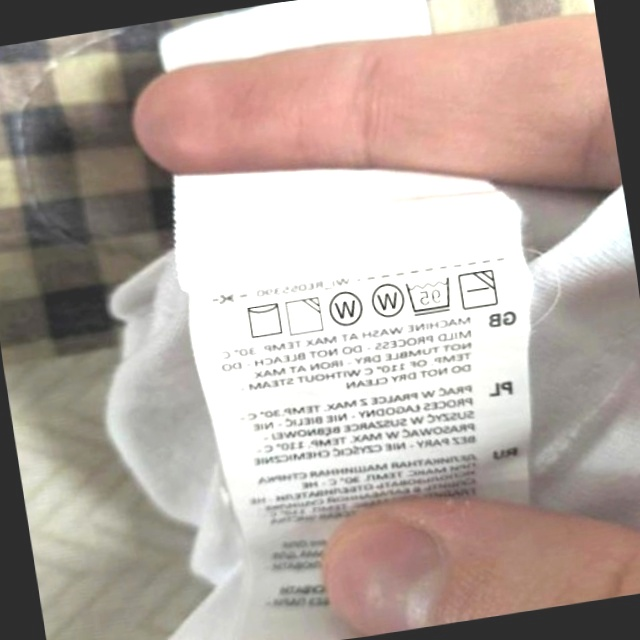95C: (403, 273, 456, 318)
dry_flat_in_shade: (456, 265, 501, 313)
line_dry: (241, 298, 286, 342)
shade_dry: (282, 294, 326, 338)
wet_clean: (325, 287, 367, 332), (366, 277, 407, 322)
